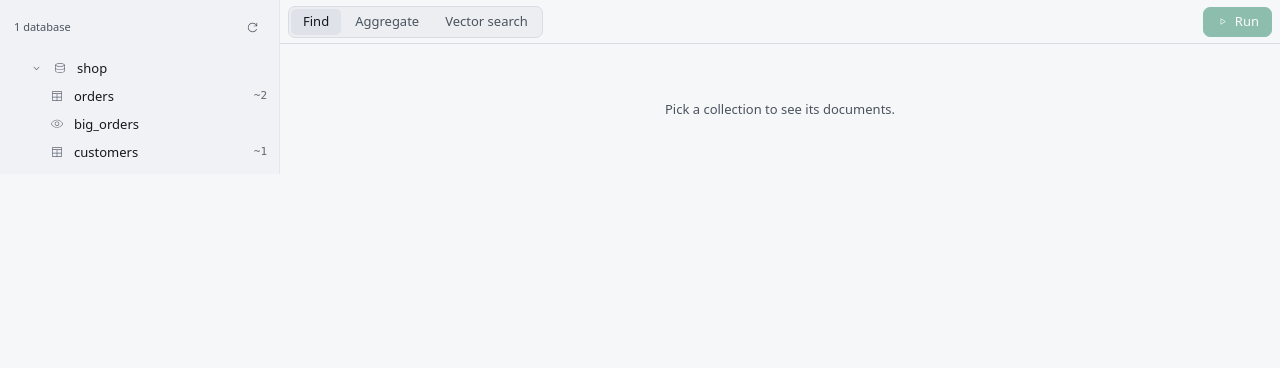
Test case: MongoView › clears the results when switching to another kind of query
Click the button "orders ~2" at (94, 96), box [6,82,273,110]
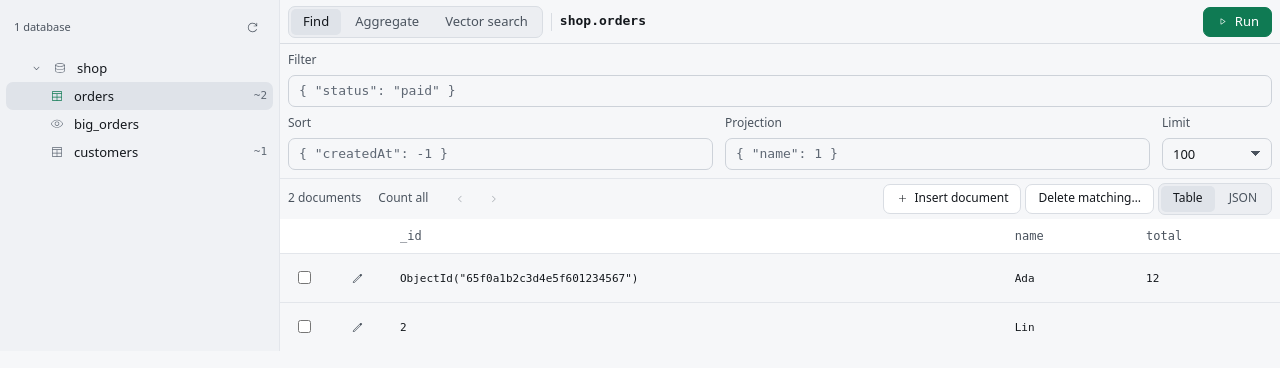
Expected: the text "2 documents" is shown, [288,190,361,207]
Click the button "Aggregate" at (387, 22), box [343,8,431,34]
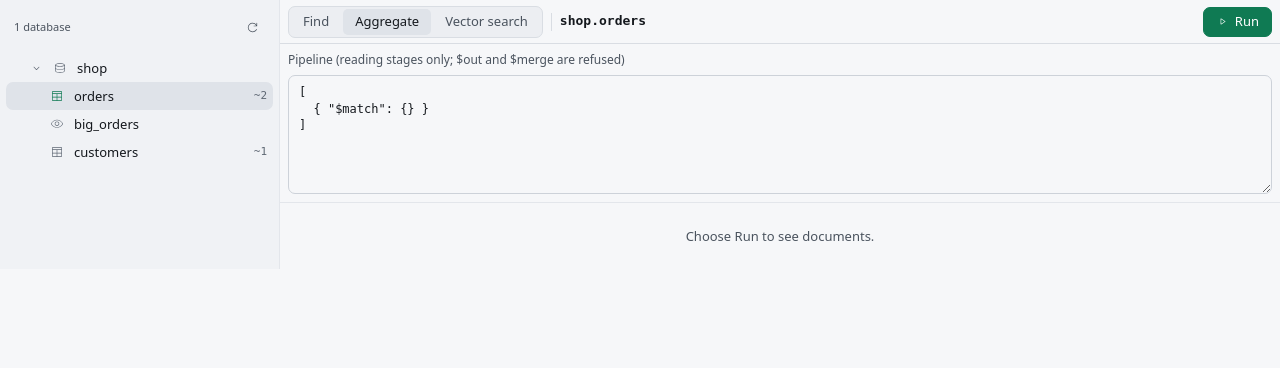
Expected: the text "Ada" is gone
Expected: the button "Delete matching…" is gone
